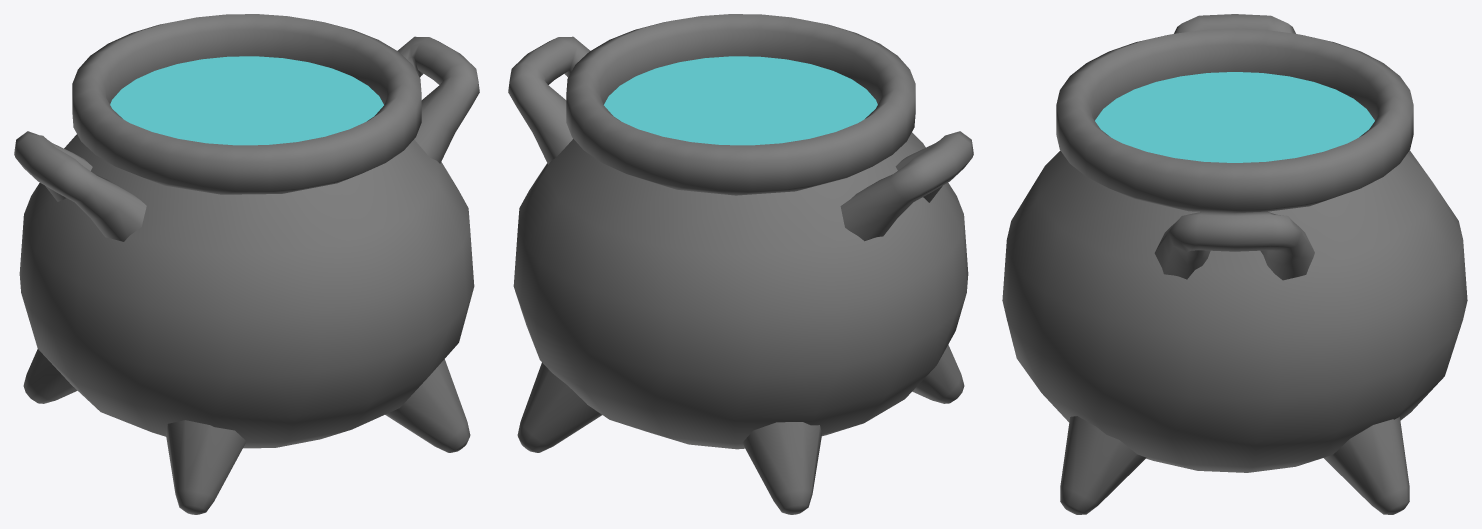
The model's file is Cauldron.fbx.
The picture shows the model from 3 angles, left to right: view 1: azimuth 30°, elevation 25°; view 2: azimuth 150°, elevation 25°; view 3: azimuth 270°, elevation 25°; orthographic projection. The views are drawn at different scales.
Parts seen in each view (by area): view 1: Caldero; view 2: Caldero; view 3: Caldero.
Part boxes in pixels (x1,y1,x2,y2): Caldero: (14, 14, 479, 514); Caldero: (508, 14, 973, 514); Caldero: (1002, 14, 1467, 514).
Bounding box in the file's own units: 1.38 × 1.26 × 1.06.
